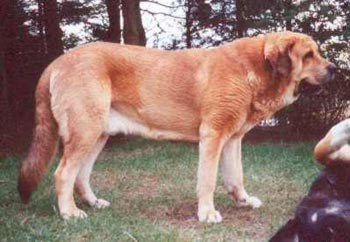mastin_espanol: (17, 30, 337, 224)
